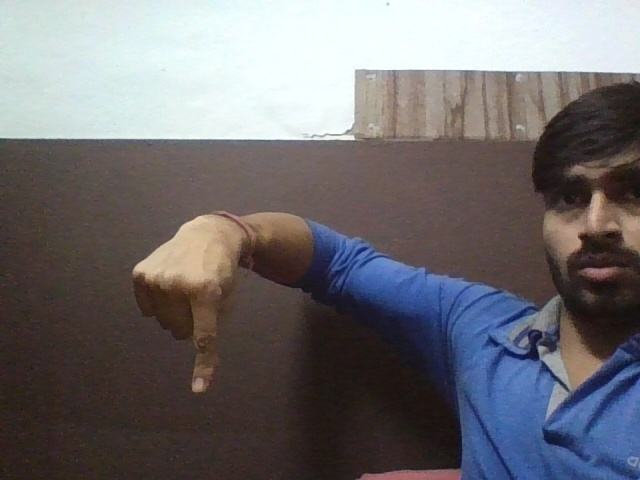Q: (124, 219, 249, 407)
